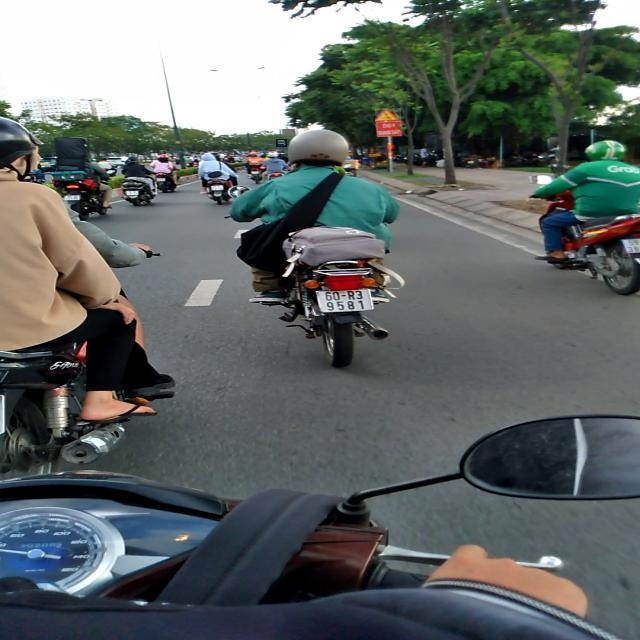bien_nguy_hiem: (376, 108, 402, 122), (276, 139, 287, 147)
